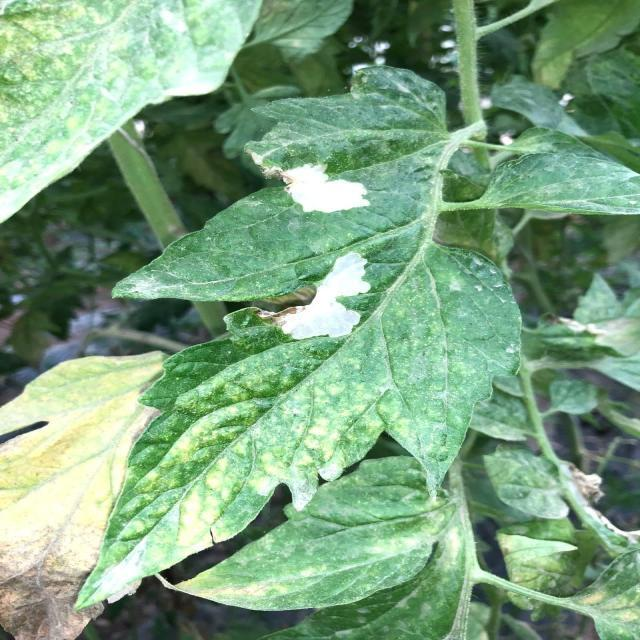Tuta absoluta: (258, 246, 394, 369), (281, 163, 371, 214)
